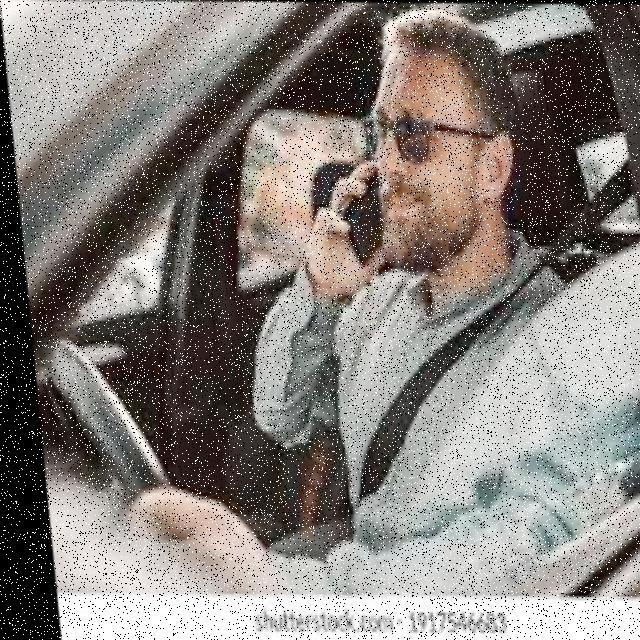seatbelt: (296, 244, 596, 566)
